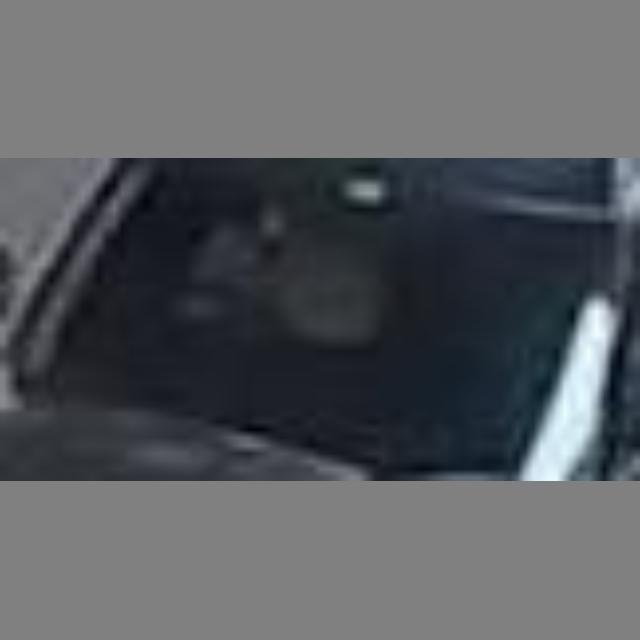tidak-pakai: (166, 174, 395, 411)
